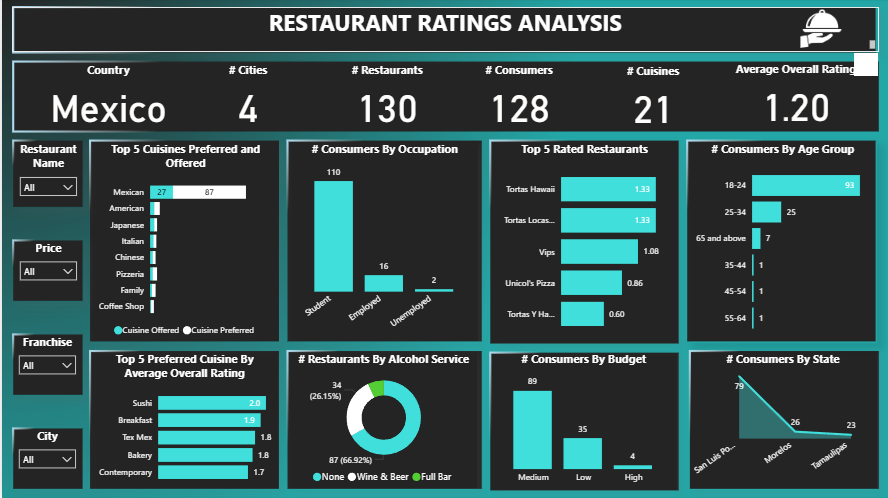

This screenshot's page, from the dashboard's own definition file:
{"tool":"powerbi","page":{"name":"Page 1","canvas":[1280,720],"ordinal":0},"visuals":[{"type":"card","title":"# Restaurants","fields":{"Values":["Count(Ratings.Restaurant_ID)"]},"box":[466.3,91.6,176.1,100.4],"z":1000},{"type":"card","title":"# Cuisines","fields":{"Values":["Count(Restaurant Cuisines.Cuisine)"]},"box":[849.6,93.6,175.7,99.4],"z":2000},{"type":"slicer","title":"Price","fields":{"Values":["Restaurants.Price"]},"box":[15.4,348.5,102.2,89.3],"z":3000},{"type":"slicer","title":"City","fields":{"Values":["Restaurants.City"]},"box":[14.4,619.2,102.2,89.3],"z":4000},{"type":"clusteredBarChart","title":"Top 5 Rated Restaurants","fields":{"Category":["Restaurants.Name"],"Y":["Avg(Ratings.Overall_Rating)"]},"box":[703.5,206.6,270,290.6],"z":5000},{"type":"clusteredBarChart","title":"# Consumers By Age Group","fields":{"Category":["Consumers.Age Group"],"Y":["Count(Consumers.Consumer_ID)"]},"box":[989.3,205.9,270.7,290.9],"z":6000},{"type":"barChart","title":"Top 5 Cuisines Preferred and Offered","fields":{"Y":["CUISINE.Cuisine Supply","CUISINE.Cuisine Demand"],"Category":["CUISINE.Cuisine"]},"box":[130,206.6,270,290.6],"z":7000},{"type":"clusteredColumnChart","title":"# Consumers By Occupation","fields":{"Category":["Consumers.Occupation"],"Y":["CountNonNull(Consumers.Consumer_ID)"]},"box":[416.5,206.6,270.4,290.6],"z":8000},{"type":"card","title":"# Consumers","fields":{"Values":["Count(Consumers.Consumer_ID)"]},"box":[656.6,92.3,176,100],"z":9000},{"type":"card","title":"Average Overall Rating","fields":{"Values":["Ratings.Average Overall Rating"]},"box":[1045.4,90.7,195.8,100.8],"z":10000},{"type":"donutChart","title":"# Restaurants By Alcohol Service","fields":{"Category":["Restaurants.Alcohol_Service"],"Y":["Count(Restaurants.Restaurant_ID)"]},"box":[414.9,509,270,200],"z":11000},{"type":"card","title":"Country","fields":{"Values":["Min(Consumers.Country)"]},"box":[44.6,92.8,217.4,100.8],"z":12000},{"type":"card","title":"# Cities","fields":{"Values":["Count(Consumers.City)"]},"box":[262.1,92.2,184.3,99.4],"z":13000},{"type":"clusteredColumnChart","title":"# Consumers By Budget","fields":{"Category":["Consumers.Budget"],"Y":["Count(Consumers.Consumer_ID)"]},"box":[702.2,509,270,200],"z":14000},{"type":"areaChart","title":"# Consumers By State","fields":{"Category":["Consumers.State"],"Y":["CountNonNull(Consumers.Consumer_ID)"]},"box":[989.3,508.3,270.7,200.2],"z":15000},{"type":"slicer","title":"Restaurant Name","fields":{"Values":["Restaurants.Name"]},"box":[16.3,205.9,102.2,96.5],"z":16000},{"type":"textbox","title":"RESTAURANT RATINGS ANALYSIS","box":[14.4,13,1248.5,64.8],"z":17000},{"type":"clusteredBarChart","title":"Top 5 Preferred Cuisine By Average Overall Rating","fields":{"Y":["Ratings.Average Overall Rating"],"Category":["CUISINE.Cuisine"]},"box":[127.7,509,270,200],"z":18000},{"type":"slicer","title":"Franchise","fields":{"Values":["Restaurants.Franchise"]},"box":[14.4,483.8,102.2,89.3],"z":19000},{"type":"image","box":[1124.6,11.5,108,64.8],"z":19001}]}

Visuals, with their boxes in screenshot pixels (x1, y1, x2, y2), scaled from the page's 1280x720 canvas onto the 888x498 screenshot:
"# Restaurants" card: Rect(323, 63, 446, 133)
"# Cuisines" card: Rect(589, 65, 711, 133)
"Price" slicer: Rect(11, 241, 82, 303)
"City" slicer: Rect(10, 428, 81, 490)
"Top 5 Rated Restaurants" clusteredBarChart: Rect(488, 143, 675, 344)
"# Consumers By Age Group" clusteredBarChart: Rect(686, 142, 874, 344)
"Top 5 Cuisines Preferred and Offered" barChart: Rect(90, 143, 278, 344)
"# Consumers By Occupation" clusteredColumnChart: Rect(289, 143, 477, 344)
"# Consumers" card: Rect(456, 64, 578, 133)
"Average Overall Rating" card: Rect(725, 63, 861, 132)
"# Restaurants By Alcohol Service" donutChart: Rect(288, 352, 475, 490)
"Country" card: Rect(31, 64, 182, 134)
"# Cities" card: Rect(182, 64, 310, 133)
"# Consumers By Budget" clusteredColumnChart: Rect(487, 352, 674, 490)
"# Consumers By State" areaChart: Rect(686, 352, 874, 490)
"Restaurant Name" slicer: Rect(11, 142, 82, 209)
"RESTAURANT RATINGS ANALYSIS" textbox: Rect(10, 9, 876, 54)
"Top 5 Preferred Cuisine By Average Overall Rating" clusteredBarChart: Rect(89, 352, 276, 490)
"Franchise" slicer: Rect(10, 335, 81, 396)
image: Rect(780, 8, 855, 53)
